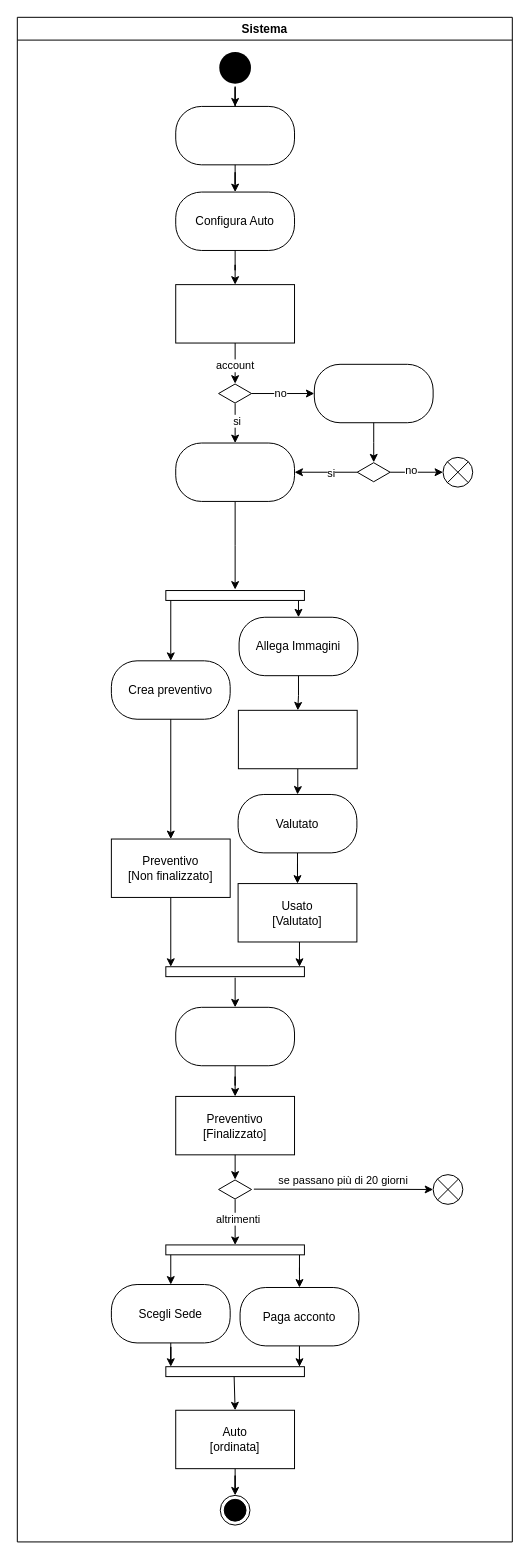
Some shapes in this 530 by 1559 pixel diagram are drawn without their labels. Here are the shapes that lost their labels. From the top down, the box of each, then its label:
(175, 105, 295, 165): Accedi a catalogo
(175, 284, 295, 343): Auto [Da acquistare]
(313, 363, 433, 423): Registrarsi
(175, 442, 295, 501): Accedere
(237, 709, 357, 769): Usato [Da valutare]
(175, 1006, 295, 1066): Finalizzato
